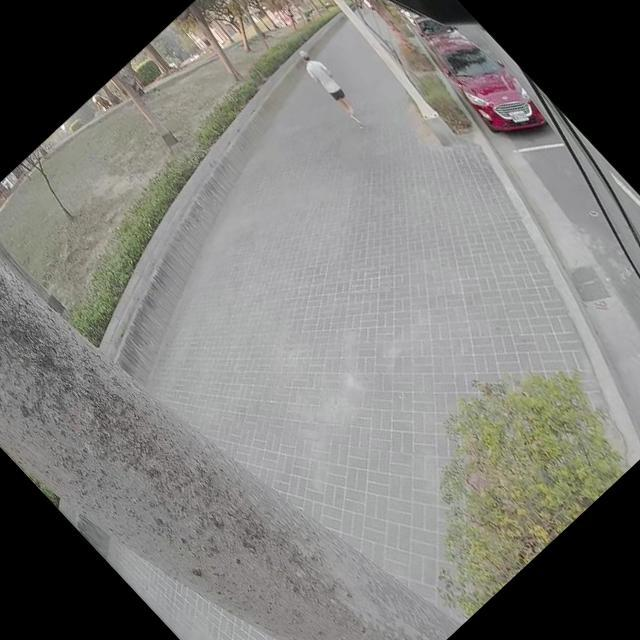person: (292, 45, 372, 130)
